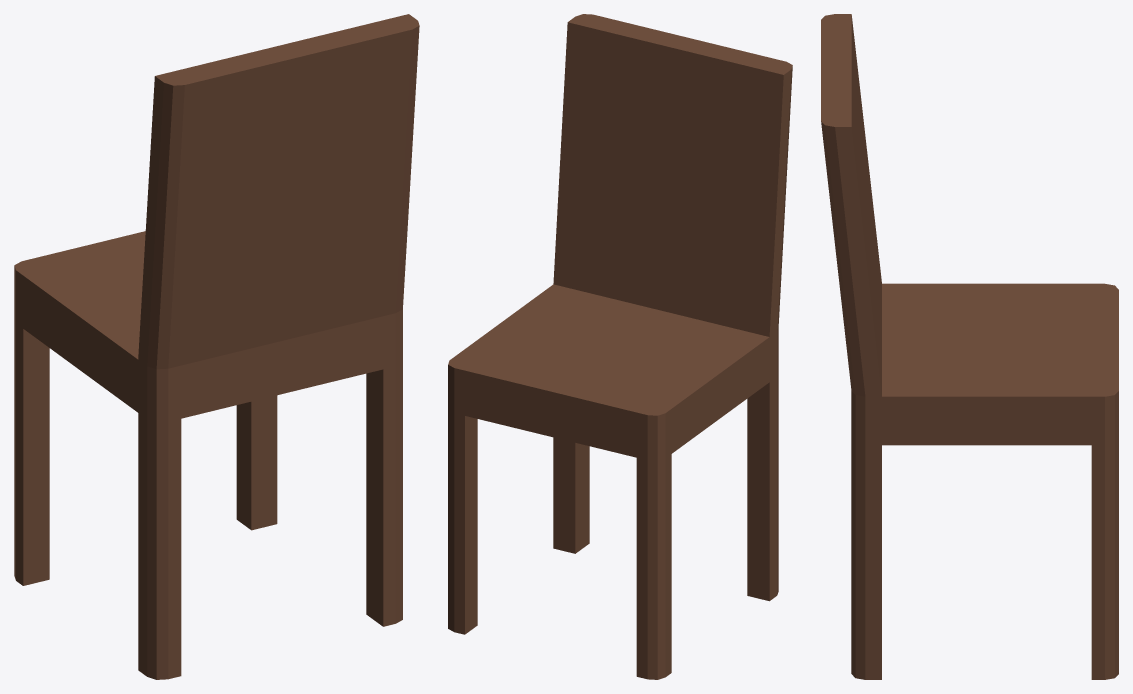
The model's file is Dinning Chair.fbx.
The picture shows the model from 3 angles, left to right: view 1: azimuth 30°, elevation 25°; view 2: azimuth 150°, elevation 25°; view 3: azimuth 270°, elevation 25°; orthographic projection. The views are drawn at different scales.
Visible parts, largest first — view 1: Cube.001; view 2: Cube.001; view 3: Cube.001.
Part boxes in pixels (x1,y1,x2,y2): Cube.001: [14, 14, 419, 679]; Cube.001: [448, 14, 792, 679]; Cube.001: [821, 14, 1118, 679].
Size of the model in its own units: 1.11 by 2.28 by 1.
